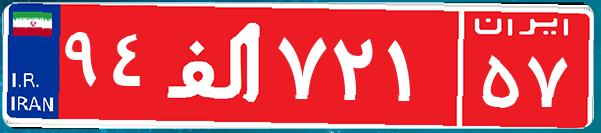1: (385, 28, 445, 110)
2: (330, 28, 385, 110)
4: (110, 28, 158, 105)
5: (475, 38, 525, 113)
7: (273, 28, 330, 110), (525, 38, 570, 115)
9: (57, 26, 110, 107)
الف: (158, 15, 273, 115)
